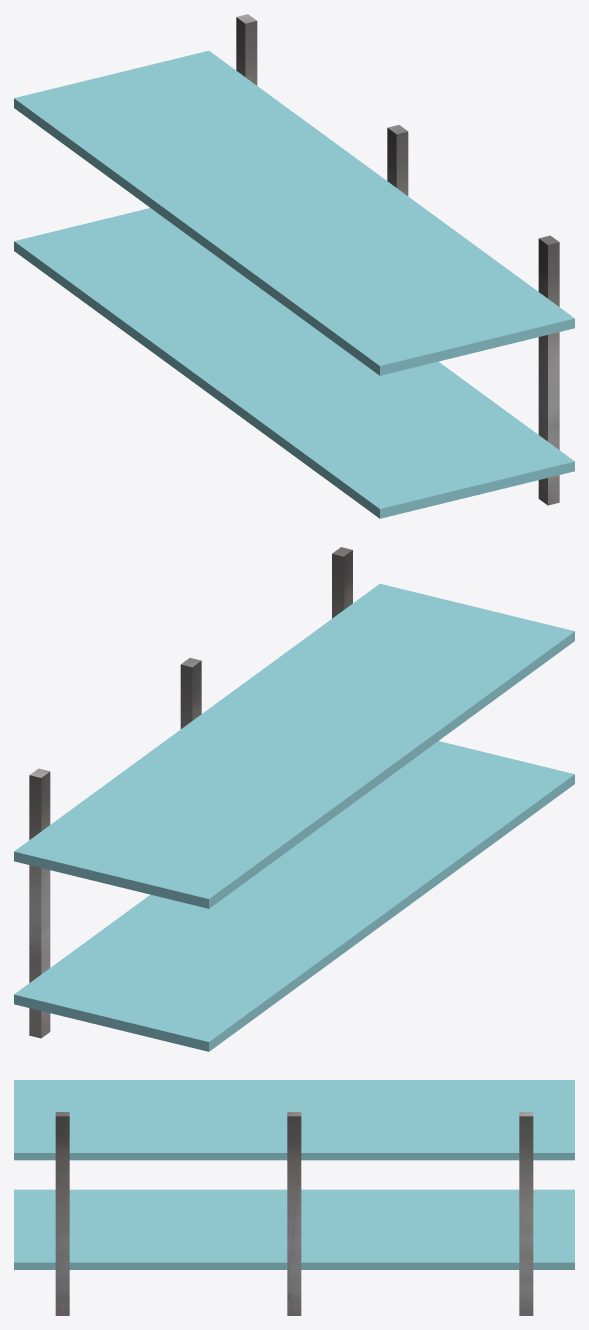
File: PrizeShelf.fbx
The picture shows the model from 3 angles, top to bottom: view 1: azimuth 30°, elevation 25°; view 2: azimuth 150°, elevation 25°; view 3: azimuth 270°, elevation 25°; orthographic projection. The views are drawn at different scales.
Parts seen in each view (by area): view 1: Cube.002, Cube, Cube.001; view 2: Cube.002, Cube, Cube.001; view 3: Cube.002, Cube, Cube.001.
Boxes of the visible parts, left/top/right/bottom form: Cube.002: left=14, top=50, right=574, bottom=375; Cube: left=14, top=208, right=574, bottom=518; Cube.001: left=236, top=14, right=559, bottom=505; Cube.002: left=14, top=583, right=574, bottom=908; Cube: left=14, top=741, right=574, bottom=1051; Cube.001: left=29, top=547, right=352, bottom=1038; Cube.002: left=14, top=1080, right=574, bottom=1160; Cube: left=14, top=1189, right=574, bottom=1269; Cube.001: left=55, top=1112, right=533, bottom=1315.
Size of the model in its own units: 84.98 by 102 by 261.
Materials: 2 (1 with a texture image).
